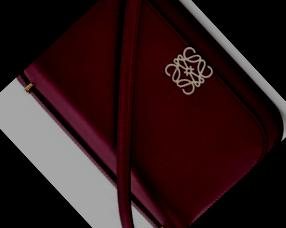LOEWE: (154, 37, 221, 103)
